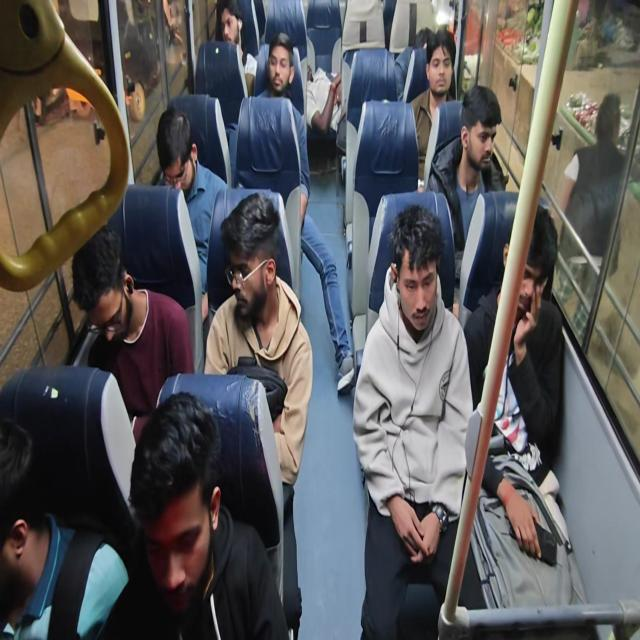person: (352, 203, 482, 638), (204, 191, 314, 637), (99, 391, 290, 638), (463, 203, 566, 559), (256, 32, 356, 394), (0, 416, 130, 639), (71, 225, 194, 446), (155, 106, 229, 320), (424, 84, 506, 252), (556, 92, 628, 264), (256, 32, 311, 226), (409, 28, 458, 186), (215, 0, 256, 96), (305, 63, 342, 134)
